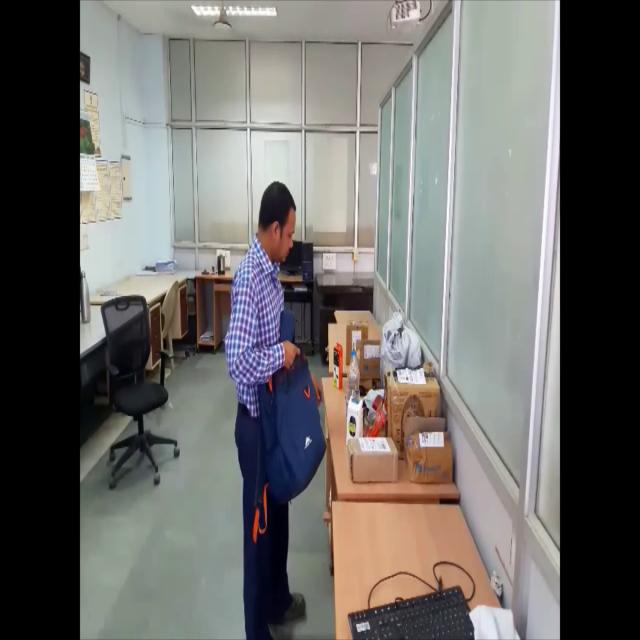shoplifting: (223, 181, 326, 640)
